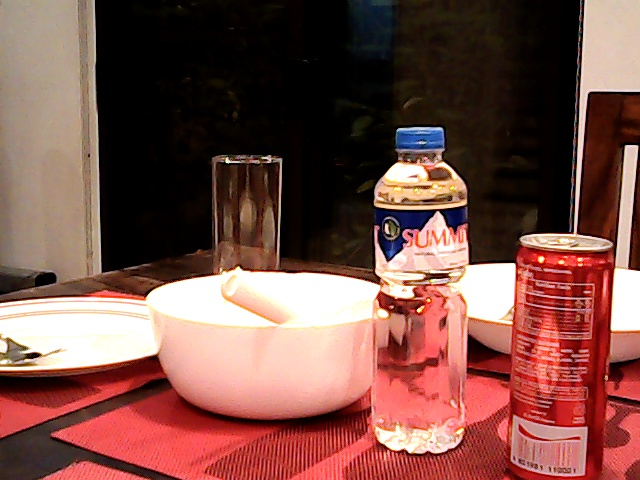Cola: (510, 232, 616, 479)
Summit Water: (369, 117, 467, 445)
